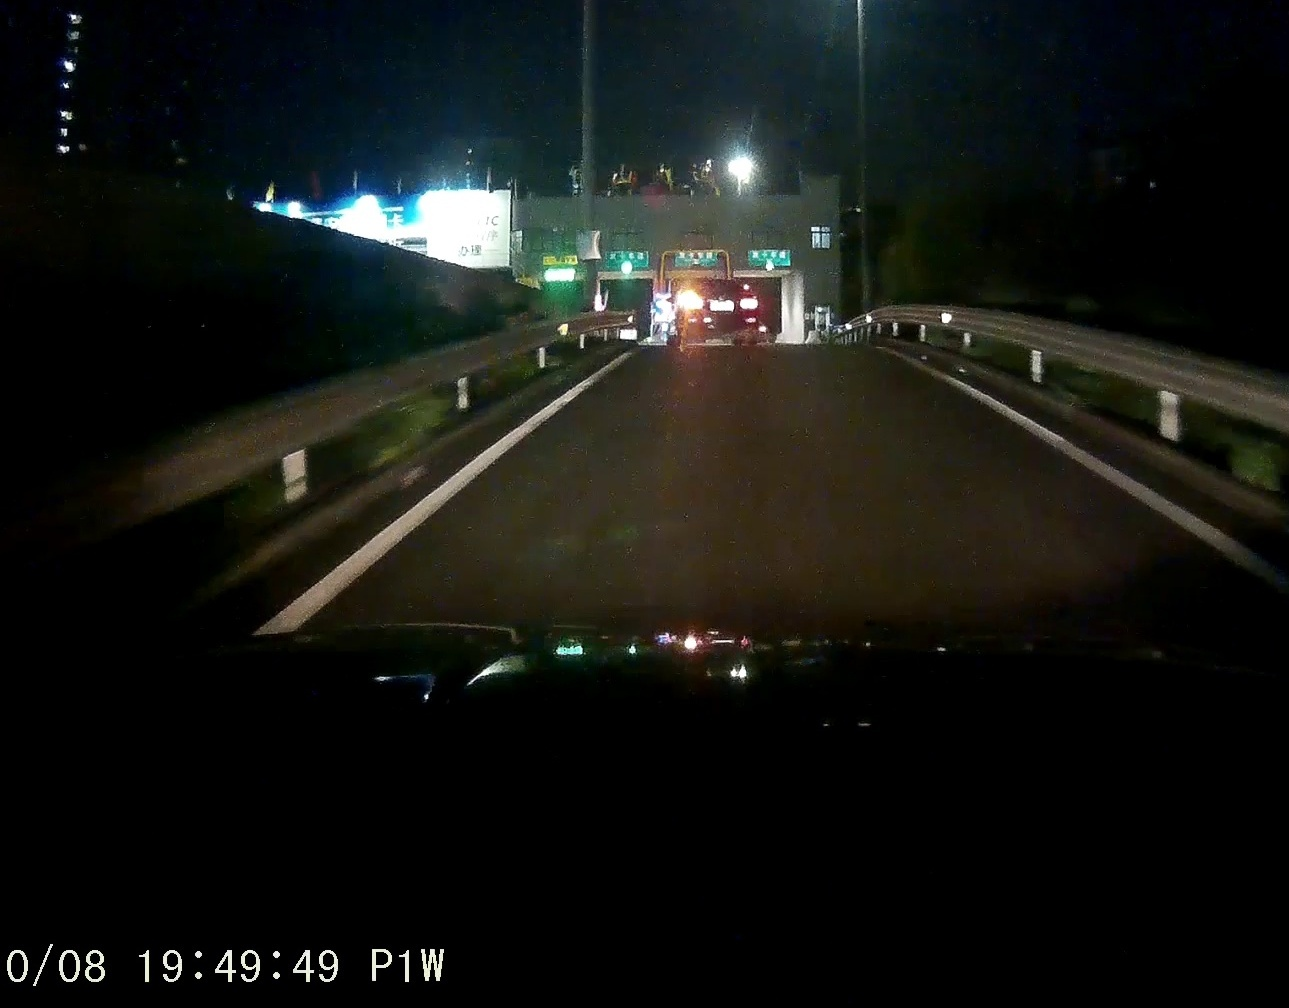L_light: (682, 298, 703, 309)
R_light: (740, 298, 757, 308)
T_light: (708, 281, 722, 284)
night-left: (679, 278, 759, 344)
